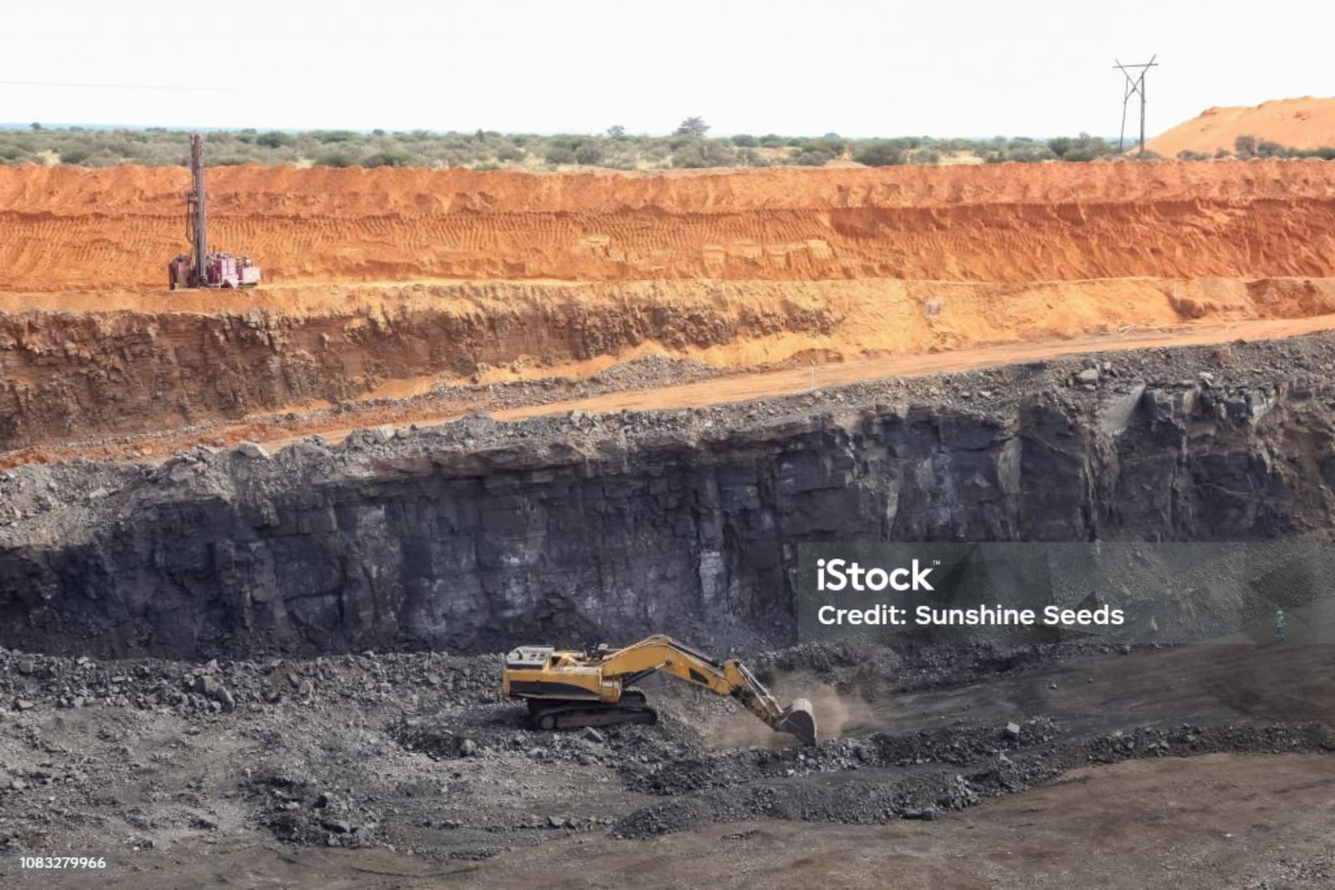benches: (13, 314, 1334, 456)
excavator: (502, 628, 834, 747)
wall: (0, 332, 1334, 657)
